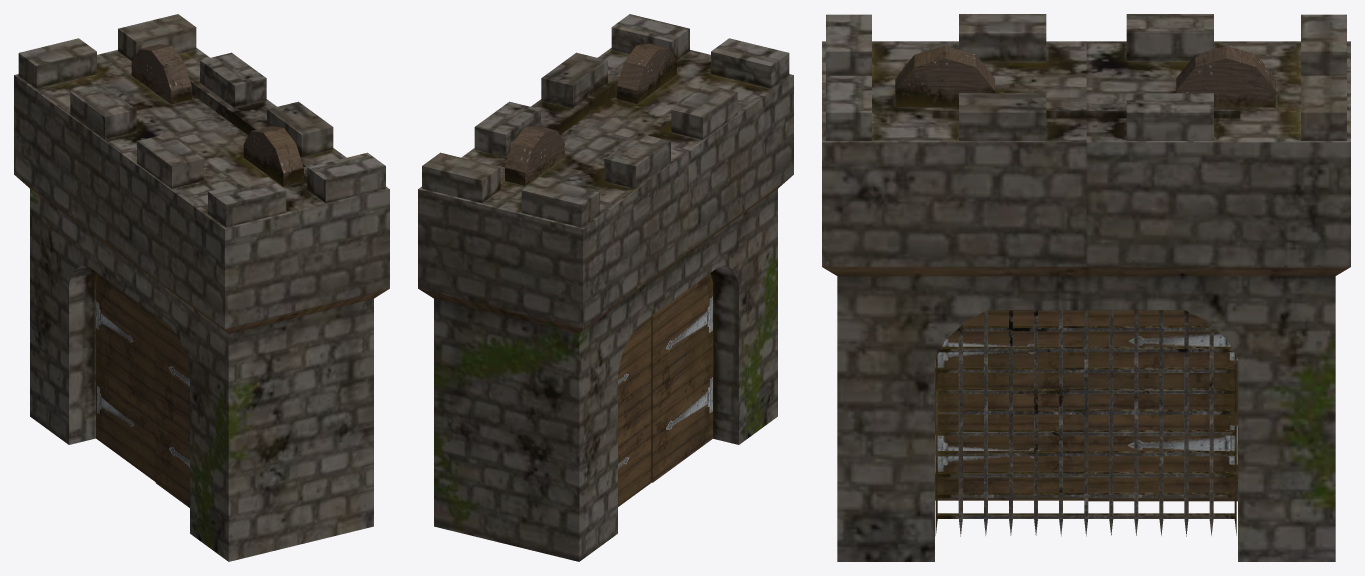
Rendered from city-gate.lod0.glb.
The picture shows the model from 3 angles, left to right: view 1: azimuth 30°, elevation 25°; view 2: azimuth 150°, elevation 25°; view 3: azimuth 270°, elevation 25°; orthographic projection. The views are drawn at different scales.
Visible parts, largest first — view 1: Gatehouse_lambert1_0, Door1_lambert3_0, Winch1_lambert2_0; view 2: Gatehouse_lambert1_0, Door1_lambert3_0, Winch1_lambert2_0; view 3: Gatehouse_lambert1_0, Door1_lambert3_0, Winch1_lambert2_0.
Boxes of the visible parts, x1=… form: Gatehouse_lambert1_0: x1=14, y1=14, x2=389, y2=561; Door1_lambert3_0: x1=96, y1=273, x2=189, y2=507; Winch1_lambert2_0: x1=131, y1=44, x2=303, y2=186; Gatehouse_lambert1_0: x1=418, y1=14, x2=793, y2=561; Door1_lambert3_0: x1=618, y1=273, x2=712, y2=506; Winch1_lambert2_0: x1=505, y1=43, x2=676, y2=185; Gatehouse_lambert1_0: x1=822, y1=14, x2=1350, y2=561; Door1_lambert3_0: x1=935, y1=310, x2=1237, y2=501; Winch1_lambert2_0: x1=895, y1=45, x2=1275, y2=536.
Size of the model in its own units: 5.92 by 13 by 13.12.
3 materials, 3 textured.
